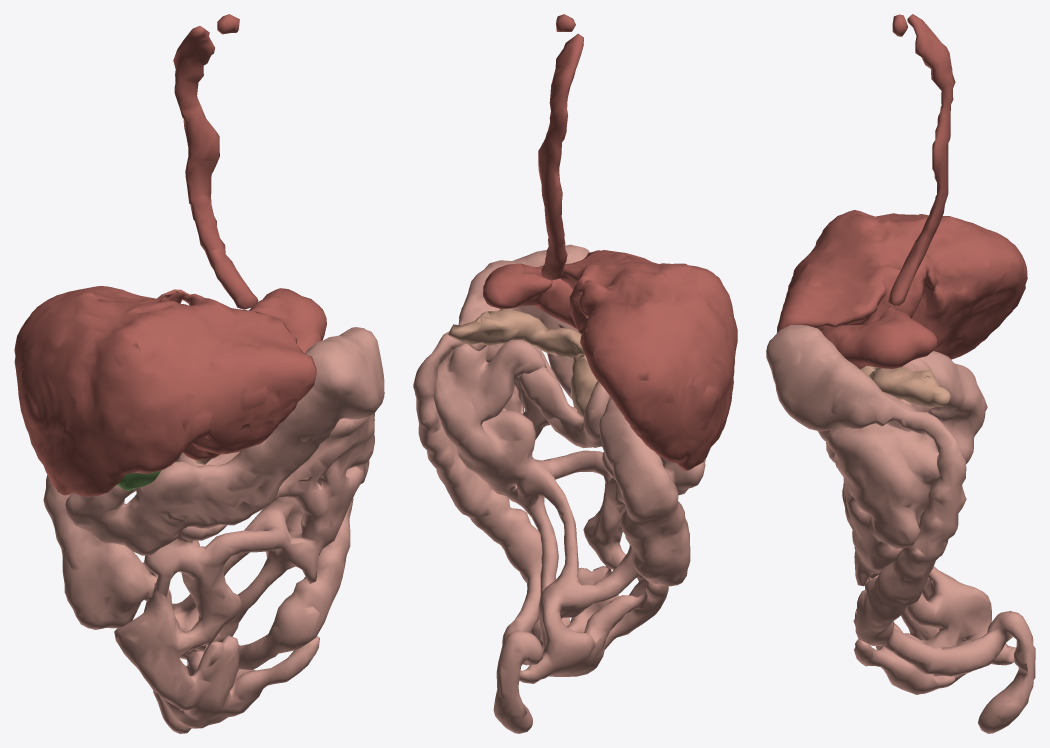
File: tsd_s0327_older_adult_male.digestive.LOD3.glb
3 renders of one model, left to right at view 1: azimuth 30°, elevation 25°; view 2: azimuth 150°, elevation 25°; view 3: azimuth 270°, elevation 25°, orthographic. The views are drawn at different scales.
Parts seen in each view (by area): view 1: TSD_S0327.OLDER_ADULT.MALE.DIGESTIVE.LIVER, TSD_S0327.OLDER_ADULT.MALE.DIGESTIVE.COLON, TSD_S0327.OLDER_ADULT.MALE.DIGESTIVE.SMALL_BOWEL_JEJUNUM_AND, TSD_S0327.OLDER_ADULT.MALE.DIGESTIVE.ESOPHAGUS, TSD_S0327.OLDER_ADULT.MALE.DIGESTIVE.STOMACH; view 2: TSD_S0327.OLDER_ADULT.MALE.DIGESTIVE.SMALL_BOWEL_JEJUNUM_AND, TSD_S0327.OLDER_ADULT.MALE.DIGESTIVE.LIVER, TSD_S0327.OLDER_ADULT.MALE.DIGESTIVE.COLON, TSD_S0327.OLDER_ADULT.MALE.DIGESTIVE.ESOPHAGUS, TSD_S0327.OLDER_ADULT.MALE.DIGESTIVE.PANCREAS, TSD_S0327.OLDER_ADULT.MALE.DIGESTIVE.DUODENUM, TSD_S0327.OLDER_ADULT.MALE.DIGESTIVE.STOMACH; view 3: TSD_S0327.OLDER_ADULT.MALE.DIGESTIVE.COLON, TSD_S0327.OLDER_ADULT.MALE.DIGESTIVE.LIVER, TSD_S0327.OLDER_ADULT.MALE.DIGESTIVE.SMALL_BOWEL_JEJUNUM_AND, TSD_S0327.OLDER_ADULT.MALE.DIGESTIVE.ESOPHAGUS, TSD_S0327.OLDER_ADULT.MALE.DIGESTIVE.STOMACH, TSD_S0327.OLDER_ADULT.MALE.DIGESTIVE.PANCREAS.
Part boxes in pixels (bbox=[...]): TSD_S0327.OLDER_ADULT.MALE.DIGESTIVE.LIVER: bbox=[14, 286, 316, 496]; TSD_S0327.OLDER_ADULT.MALE.DIGESTIVE.COLON: bbox=[43, 327, 384, 733]; TSD_S0327.OLDER_ADULT.MALE.DIGESTIVE.SMALL_BOWEL_JEJUNUM_AND: bbox=[114, 413, 374, 728]; TSD_S0327.OLDER_ADULT.MALE.DIGESTIVE.ESOPHAGUS: bbox=[173, 14, 258, 309]; TSD_S0327.OLDER_ADULT.MALE.DIGESTIVE.STOMACH: bbox=[182, 288, 326, 460]; TSD_S0327.OLDER_ADULT.MALE.DIGESTIVE.SMALL_BOWEL_JEJUNUM_AND: bbox=[433, 340, 668, 683]; TSD_S0327.OLDER_ADULT.MALE.DIGESTIVE.LIVER: bbox=[560, 250, 737, 470]; TSD_S0327.OLDER_ADULT.MALE.DIGESTIVE.COLON: bbox=[413, 244, 705, 733]; TSD_S0327.OLDER_ADULT.MALE.DIGESTIVE.ESOPHAGUS: bbox=[538, 14, 583, 280]; TSD_S0327.OLDER_ADULT.MALE.DIGESTIVE.PANCREAS: bbox=[448, 309, 597, 418]; TSD_S0327.OLDER_ADULT.MALE.DIGESTIVE.DUODENUM: bbox=[519, 366, 610, 447]; TSD_S0327.OLDER_ADULT.MALE.DIGESTIVE.STOMACH: bbox=[483, 263, 576, 328]; TSD_S0327.OLDER_ADULT.MALE.DIGESTIVE.COLON: bbox=[766, 325, 1035, 733]; TSD_S0327.OLDER_ADULT.MALE.DIGESTIVE.LIVER: bbox=[777, 210, 1027, 359]; TSD_S0327.OLDER_ADULT.MALE.DIGESTIVE.SMALL_BOWEL_JEJUNUM_AND: bbox=[826, 399, 1015, 694]; TSD_S0327.OLDER_ADULT.MALE.DIGESTIVE.ESOPHAGUS: bbox=[888, 14, 955, 305]; TSD_S0327.OLDER_ADULT.MALE.DIGESTIVE.STOMACH: bbox=[821, 306, 937, 369]; TSD_S0327.OLDER_ADULT.MALE.DIGESTIVE.PANCREAS: bbox=[860, 366, 951, 408].
Bounding box in the file's own units: 0.2554 × 0.5703 × 0.1938.
